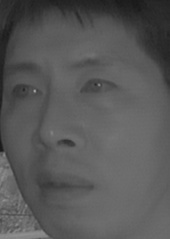eye: (79, 73, 119, 99), (5, 80, 45, 102)
mouth: (34, 166, 97, 208)
